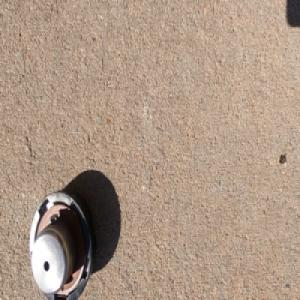FuelCap: (27, 187, 98, 300)
